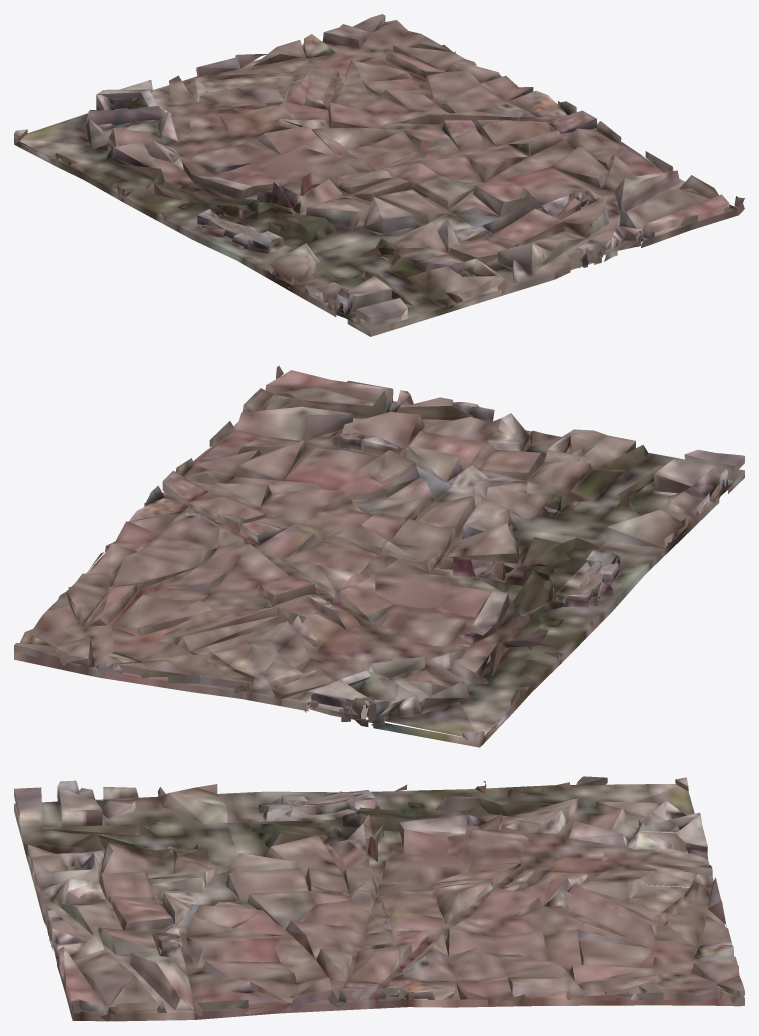
The picture shows the model from 3 angles, top to bottom: view 1: azimuth 30°, elevation 25°; view 2: azimuth 150°, elevation 25°; view 3: azimuth 270°, elevation 25°; orthographic projection. The views are drawn at different scales.
Parts seen in each view (by area): view 1: Mesh_0; view 2: Mesh_0; view 3: Mesh_0.
Boxes of the visible parts, bbox=[...] form: Mesh_0: bbox=[14, 14, 744, 336]; Mesh_0: bbox=[14, 365, 744, 747]; Mesh_0: bbox=[14, 776, 744, 1021].
Bounding box in the file's own units: 1080 × 104 × 1318.
Materials: 2 (2 with a texture image).
